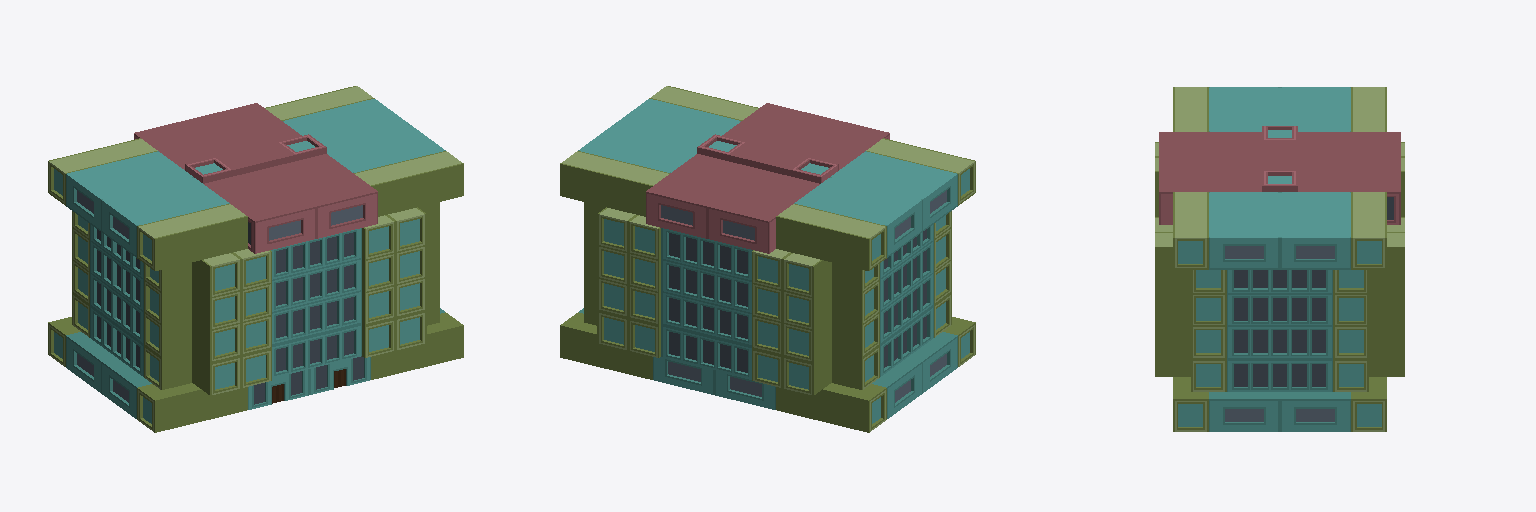
The picture shows the model from 3 angles: view 1: azimuth 30°, elevation 25°; view 2: azimuth 150°, elevation 25°; view 3: azimuth 270°, elevation 25°; orthographic projection.
Visible parts, largest first — view 1: object 1; view 2: object 1; view 3: object 1.
Part boxes in pixels (left/top/right/bottom): object 1: left=48, top=86, right=463, bottom=432; object 1: left=560, top=86, right=975, bottom=432; object 1: left=1155, top=87, right=1404, bottom=431.
Bounding box in the file's own units: 20 × 12.4 × 14.
Materials: 1 (1 with a texture image).